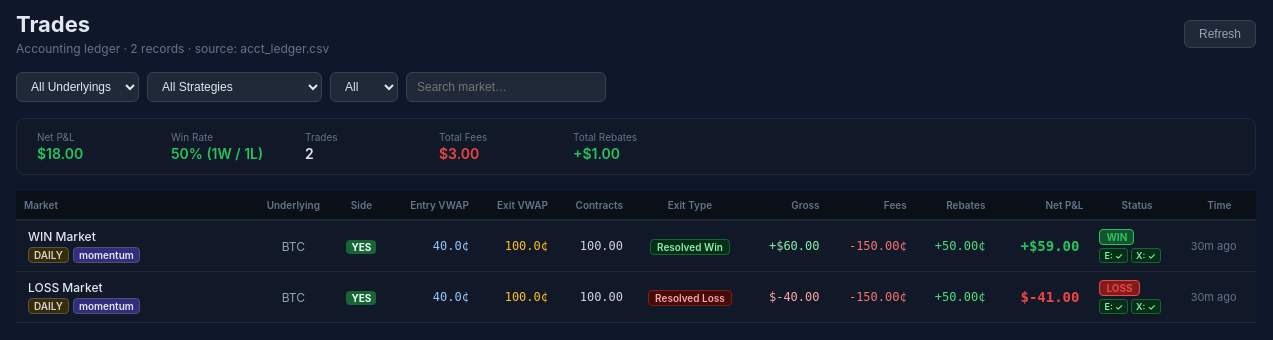
Trades component › filters rows by outcome dropdown
Note: Select "Win" from the outcome dropdown
Select "Win" in the 3rd dropdown showing "All" at (364, 87), box x1=330 y1=72 x2=398 y2=102
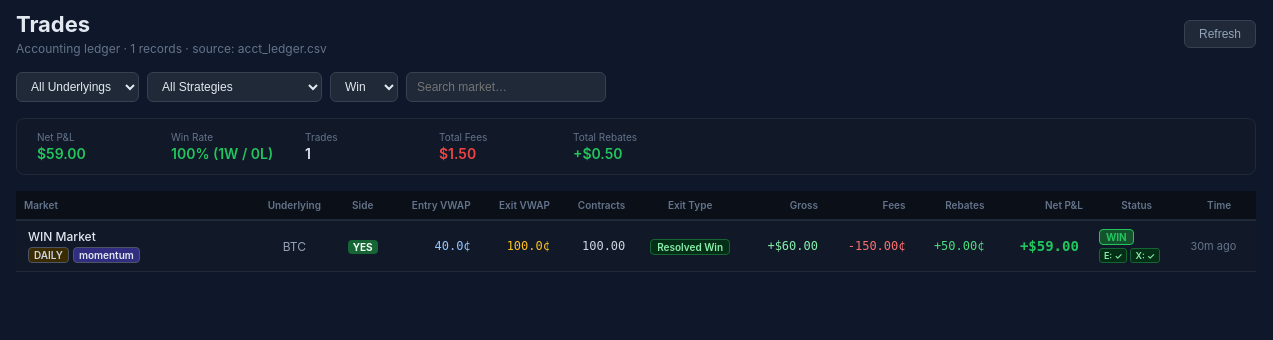
Check: the text "WIN Market" is shown, box x1=28 y1=229 x2=96 y2=244
Check: the text "LOSS Market" is gone
